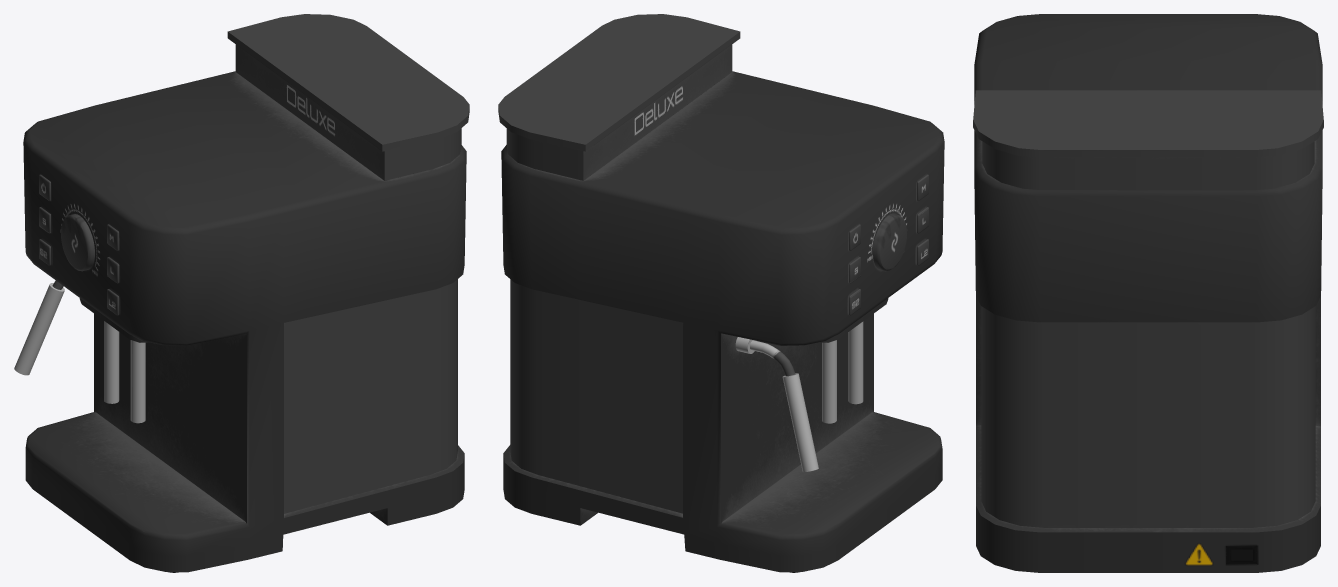
File: SM_EspressoMachineS.fbx
The picture shows the model from 3 angles, left to right: view 1: azimuth 30°, elevation 25°; view 2: azimuth 150°, elevation 25°; view 3: azimuth 270°, elevation 25°; orthographic projection. The views are drawn at different scales.
Parts seen in each view (by area): view 1: SM_EspressoMachineS_LOD0; view 2: SM_EspressoMachineS_LOD0; view 3: SM_EspressoMachineS_LOD0.
Part boxes in pixels (box(x1,y1,x2,y2)): SM_EspressoMachineS_LOD0: box(14, 14, 469, 572); SM_EspressoMachineS_LOD0: box(498, 14, 944, 572); SM_EspressoMachineS_LOD0: box(973, 14, 1323, 572).
Bounding box in the file's own units: 31.33 × 25.03 × 34.05.
Materials: 1 (1 with a texture image).
